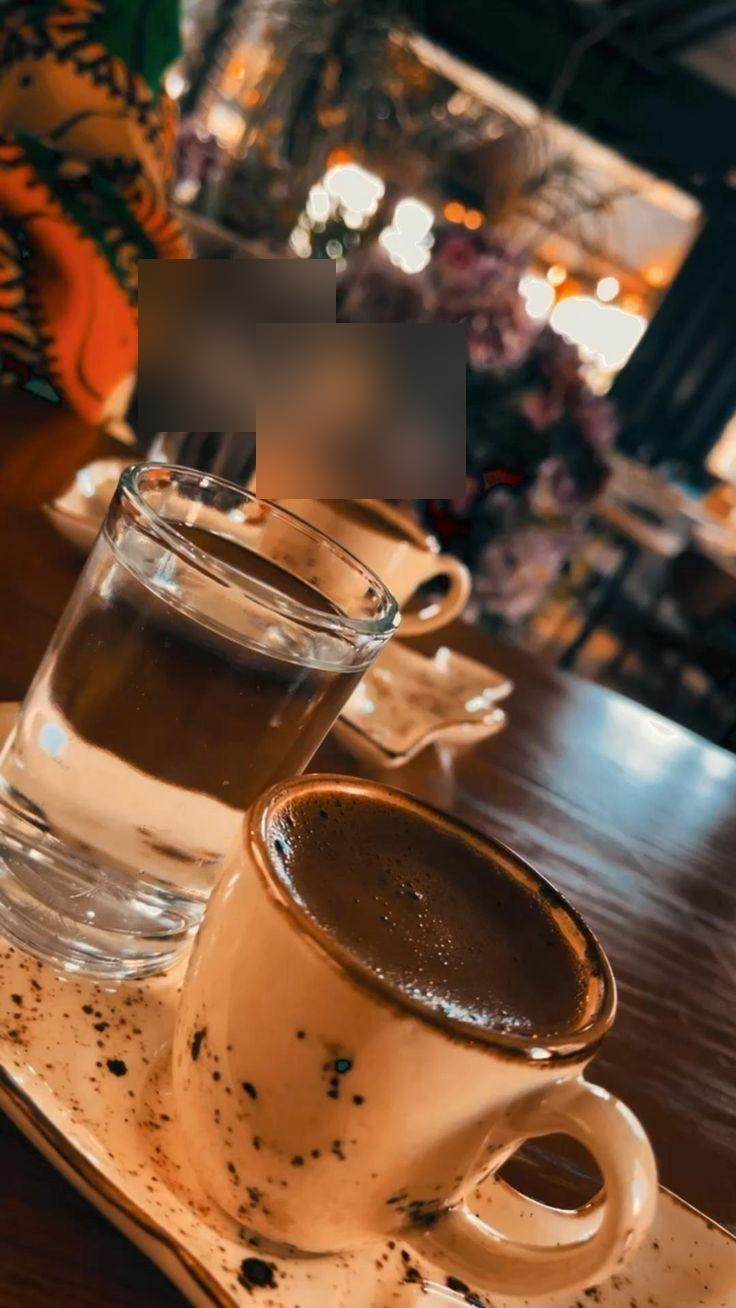cup-handle: (165, 768, 664, 1303)
glass-normal: (1, 458, 401, 980)
